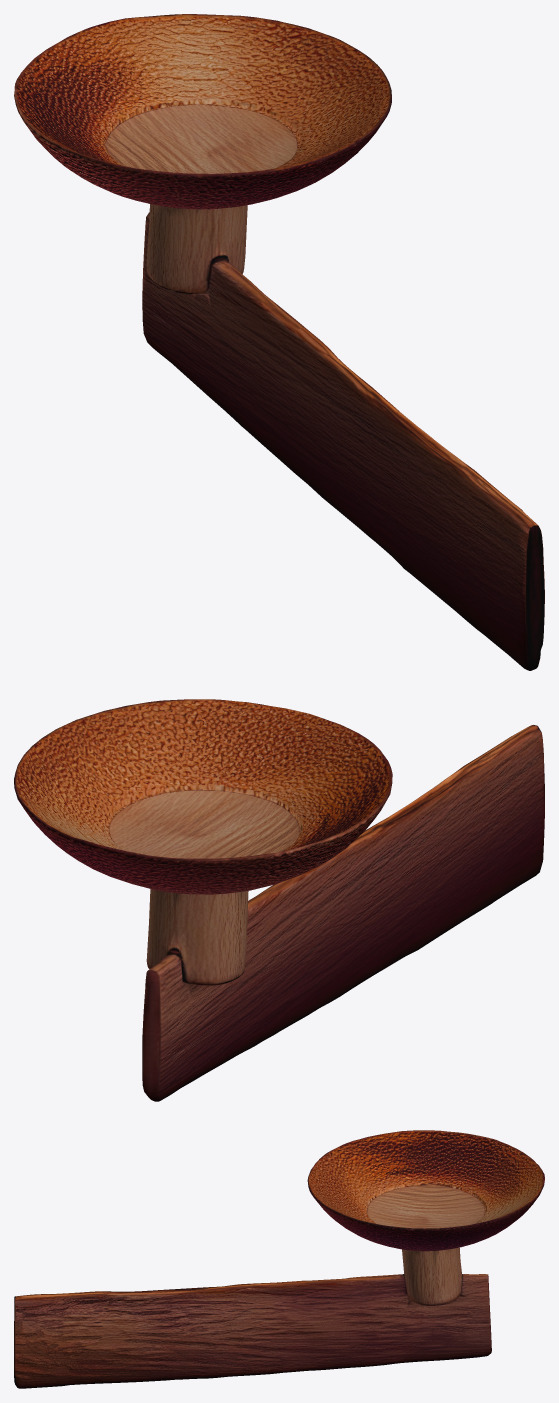
The model's file is spiseredskap_11.glb.
The picture shows the model from 3 angles, top to bottom: view 1: azimuth 30°, elevation 25°; view 2: azimuth 150°, elevation 25°; view 3: azimuth 270°, elevation 25°; orthographic projection. The views are drawn at different scales.
Visible parts, largest first — view 1: tripo_node_d75adcf8-3c90-4774-9d94-e58f326986c0; view 2: tripo_node_d75adcf8-3c90-4774-9d94-e58f326986c0; view 3: tripo_node_d75adcf8-3c90-4774-9d94-e58f326986c0.
Boxes of the visible parts, bbox=[...] form: tripo_node_d75adcf8-3c90-4774-9d94-e58f326986c0: bbox=[14, 14, 544, 670]; tripo_node_d75adcf8-3c90-4774-9d94-e58f326986c0: bbox=[14, 699, 544, 1101]; tripo_node_d75adcf8-3c90-4774-9d94-e58f326986c0: bbox=[14, 1130, 544, 1388].
Bounding box in the file's own units: 0.4301 × 0.4259 × 0.9789.
Materials: 1 (1 with a texture image).
